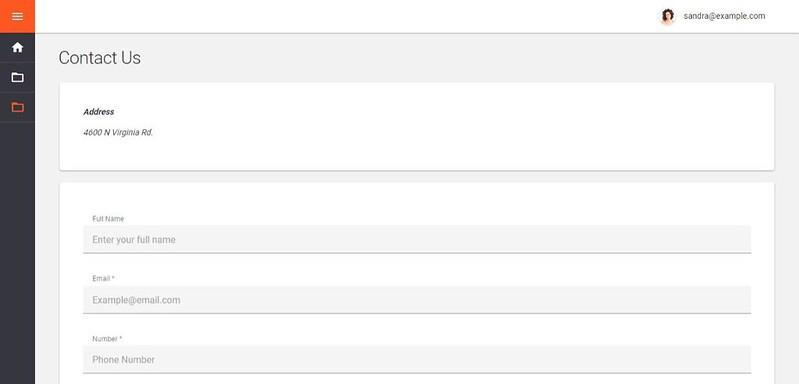icon: (6, 99, 30, 118), (9, 69, 30, 87), (10, 38, 27, 59), (12, 10, 27, 29)
input: (84, 225, 751, 254), (83, 347, 748, 376), (84, 287, 753, 314)
label: (56, 43, 150, 73), (685, 9, 770, 23), (87, 212, 129, 226), (91, 335, 126, 346), (89, 275, 118, 286)
